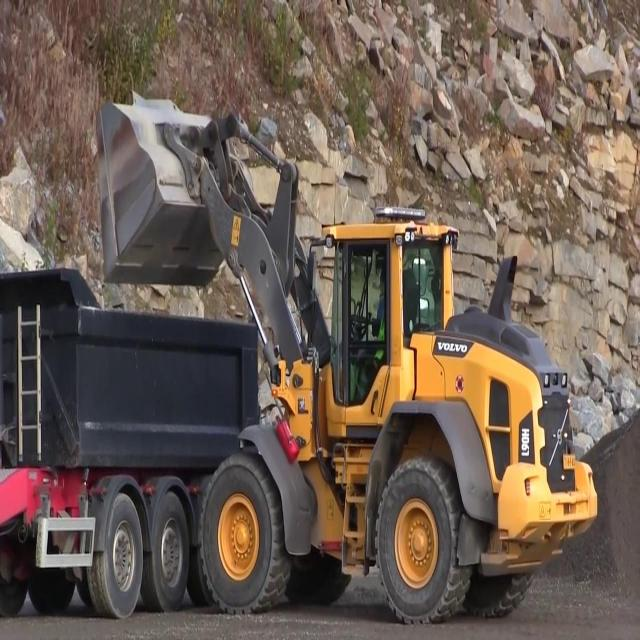buldozerpayloadergrader: (91, 84, 603, 630)
dump_truck: (2, 264, 256, 621)
